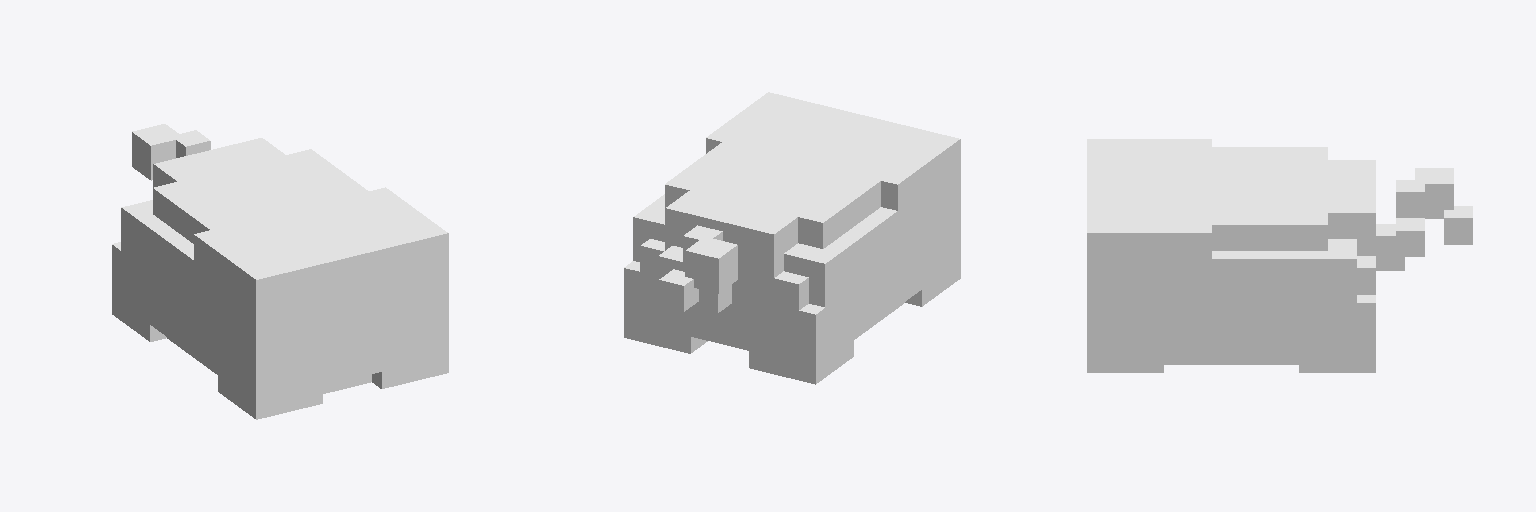
Rendered from -0-butaBD.obj.
3 views of the same model, side by side, from view 1: azimuth 30°, elevation 25°; view 2: azimuth 150°, elevation 25°; view 3: azimuth 270°, elevation 25° (orthographic).
Visible parts, largest first — view 1: butaBD; view 2: butaBD; view 3: butaBD.
Part boxes in pixels (left/top/right/bottom): butaBD: left=112, top=124, right=448, bottom=419; butaBD: left=624, top=92, right=960, bottom=384; butaBD: left=1087, top=139, right=1472, bottom=372.
Size of the model in its own units: 2.3 by 1.6 by 4.